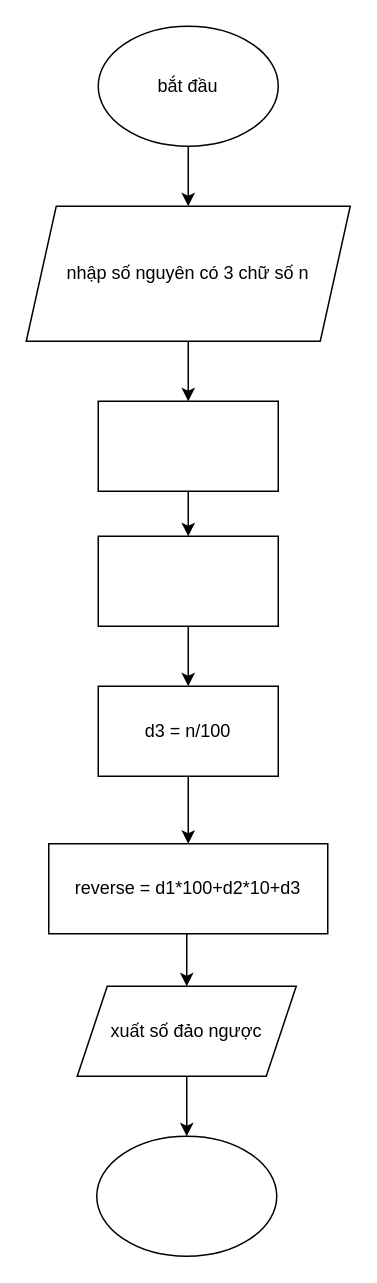
This 377x1283 diagram has some shape labels left out. The shapes that lost their labels are listed below. From the top down, each one's centre as x and y in pixels, then its label:
point 187,445: d1 = n%10
point 187,580: d2 = (n/10)%10
point 186,1195: kết thúc
